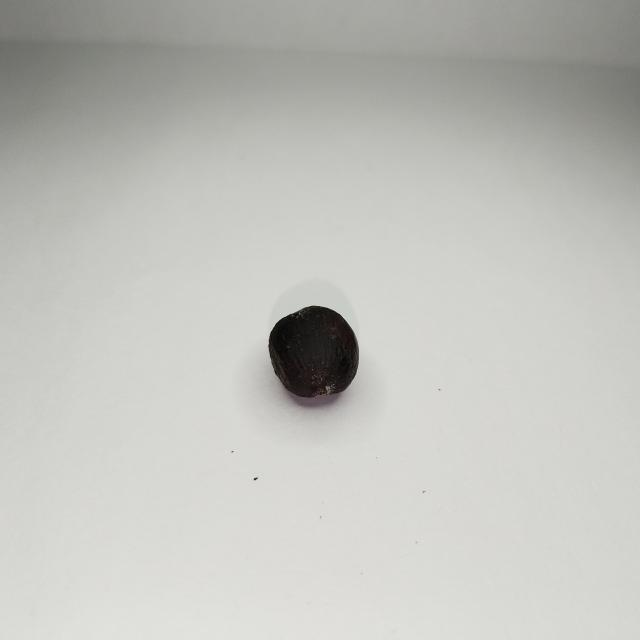Danado: (267, 306, 361, 405)
